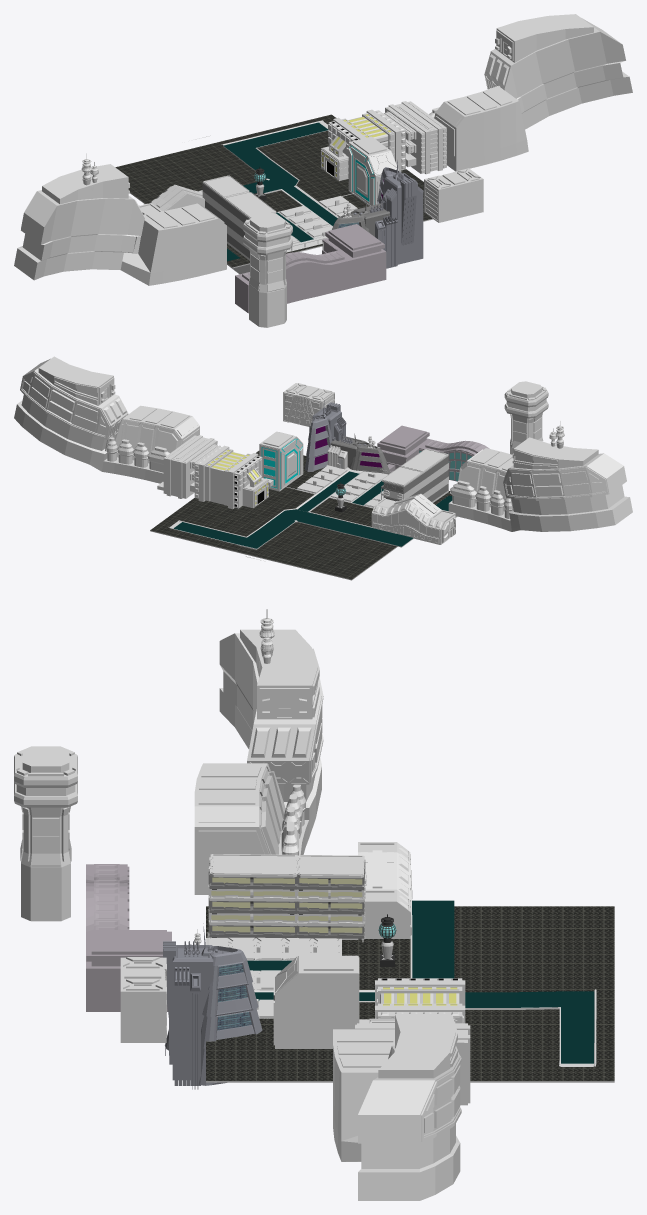
The model's file is dock.fbx.
3 renders of one model, top to bottom at view 1: azimuth 30°, elevation 25°; view 2: azimuth 150°, elevation 25°; view 3: azimuth 270°, elevation 25°, orthographic. The views are drawn at different scales.
Parts seen in each view (by area): view 1: polySurface322, polySurface323, pCube7, Cube.020, Cube, polySurface29, Cube.032, Cube.024, Cube.023, Cube.045, Cube.022, Cube.066 (+2 smaller); view 2: polySurface322, polySurface323, pCube7, Cube, Cube.024, polySurface29, Cube.003, Cube.020, Cube.032, Cube.022, Cube.023, Cube.045 (+2 smaller); view 3: pCube7, polySurface322, polySurface323, Cube, polySurface29, Cube.032, Cube.066, Cube.022, Cube.020, Cube.067, Cube.003, Cube.045 (+2 smaller).
Part boxes in pixels (x1,y1,x2,y2): polySurface322: [14, 164, 226, 285]; polySurface323: [429, 14, 632, 171]; pCube7: [115, 114, 433, 268]; Cube.020: [235, 224, 386, 313]; Cube: [195, 120, 357, 261]; polySurface29: [332, 160, 423, 268]; Cube.032: [243, 212, 292, 327]; Cube.024: [321, 109, 405, 180]; Cube.023: [383, 101, 446, 174]; Cube.045: [424, 168, 483, 222]; Cube.022: [348, 136, 398, 206]; Cube.066: [223, 191, 276, 274]; polySurface322: [448, 437, 632, 531]; polySurface323: [14, 356, 199, 483]; pCube7: [150, 451, 452, 580]; Cube: [168, 463, 457, 560]; Cube.024: [194, 445, 268, 509]; polySurface29: [305, 400, 390, 474]; Cube.003: [371, 493, 455, 544]; Cube.020: [377, 425, 489, 481]; Cube.032: [504, 381, 548, 454]; Cube.022: [259, 431, 303, 491]; Cube.023: [157, 435, 220, 498]; Cube.045: [283, 383, 334, 426]; pCube7: [206, 906, 614, 1082]; polySurface322: [194, 629, 323, 894]; polySurface323: [333, 1014, 461, 1200]; Cube: [206, 890, 596, 1066]; polySurface29: [163, 923, 262, 1089]; Cube.032: [14, 746, 77, 921]; Cube.066: [208, 854, 297, 938]; Cube.022: [273, 955, 369, 1048]; Cube.020: [86, 864, 171, 1011]; Cube.067: [296, 855, 366, 942]; Cube.003: [358, 842, 411, 938]; Cube.045: [120, 957, 166, 1042].
Size of the model in its own units: 340 by 80.48 by 183.
